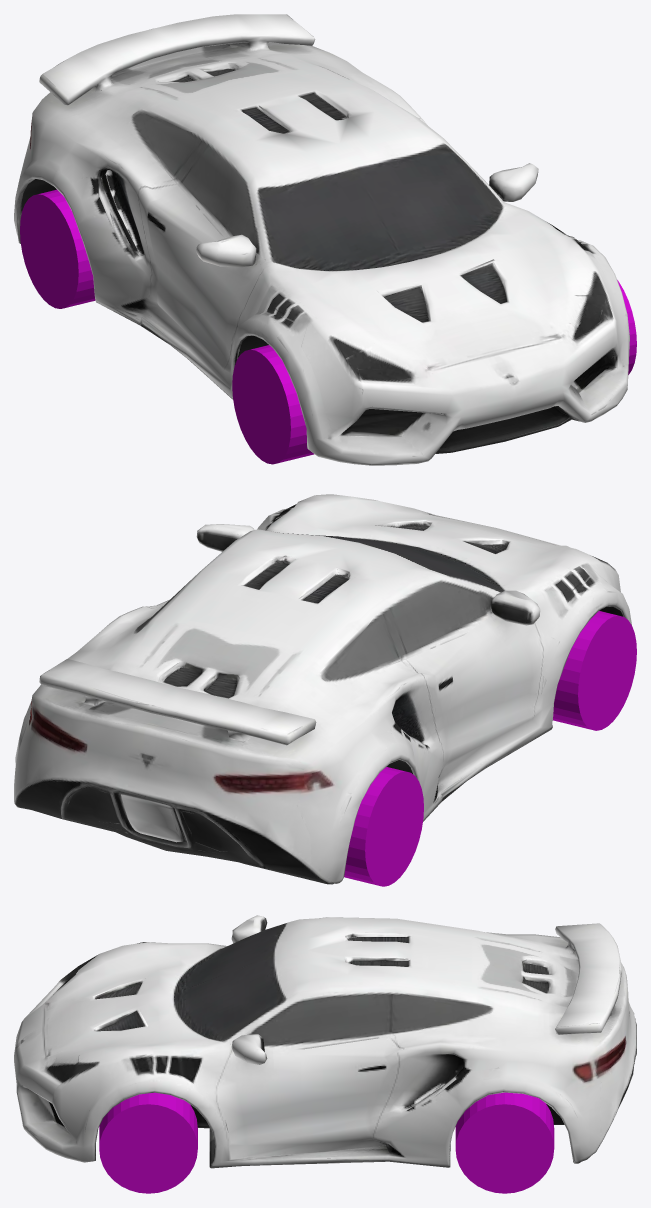
The model's file is new_car.glb.
3 views of the same model, one above another, from view 1: azimuth 30°, elevation 25°; view 2: azimuth 150°, elevation 25°; view 3: azimuth 270°, elevation 25° (orthographic). The views are drawn at different scales.
Parts seen in each view (by area): view 1: Body, WheelFR, WheelRR; view 2: Body, WheelFR, WheelRR; view 3: Body, WheelRL, WheelFL.
Boxes of the visible parts, left/top/right/bottom form: Body: left=14, top=14, right=629, bottom=465; WheelFR: left=232, top=345, right=314, bottom=464; WheelRR: left=20, top=189, right=95, bottom=308; Body: left=14, top=494, right=631, bottom=884; WheelFR: left=553, top=611, right=636, bottom=730; WheelRR: left=344, top=767, right=423, bottom=886; Body: left=14, top=915, right=636, bottom=1168; WheelRL: left=455, top=1092, right=554, bottom=1193; WheelFL: left=99, top=1092, right=197, bottom=1193.
Size of the model in its own units: 2.72 by 1.55 by 5.05.
Materials: 2 (1 with a texture image).
